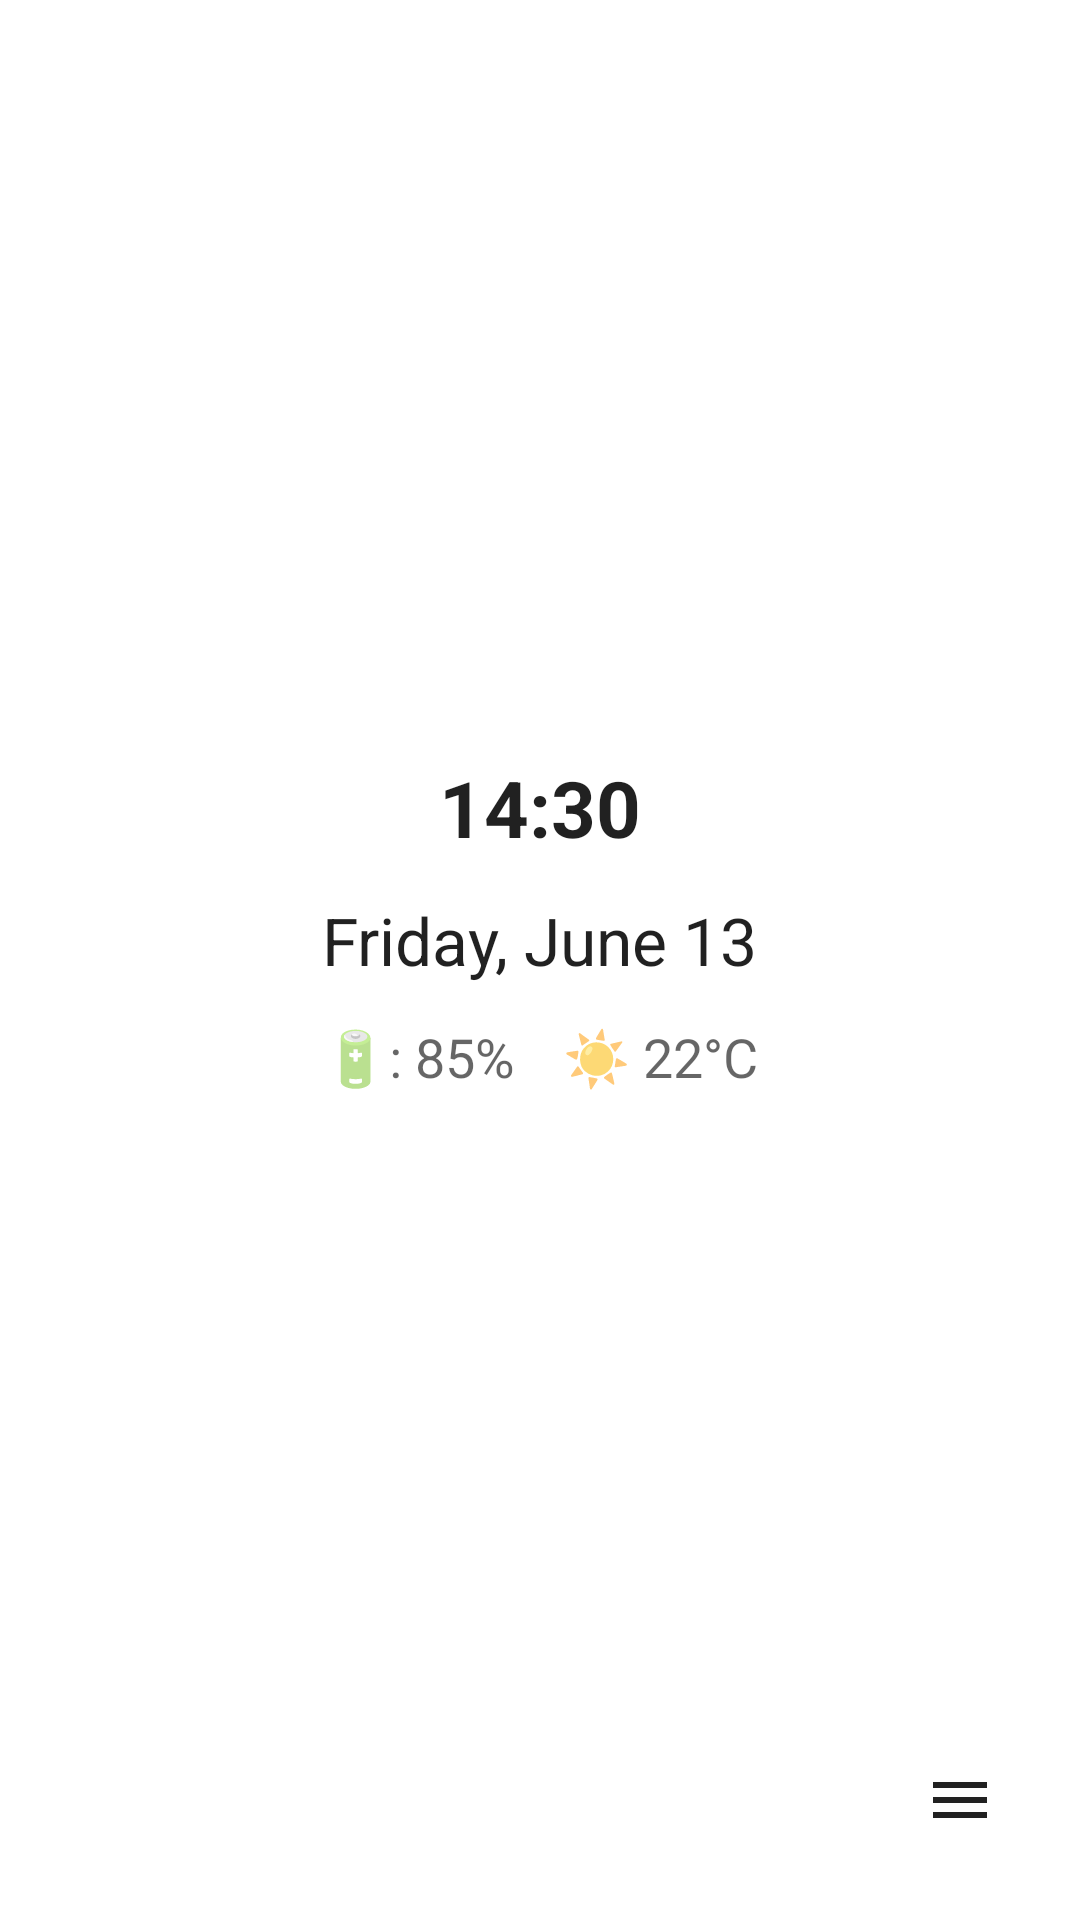

Icon bounding boxes for this 1080 x 1920 phone screenshot, format [left=x1, top=y1, right=x2, bottom=y2]:
All Apps: [left=933, top=1782, right=987, bottom=1818]
